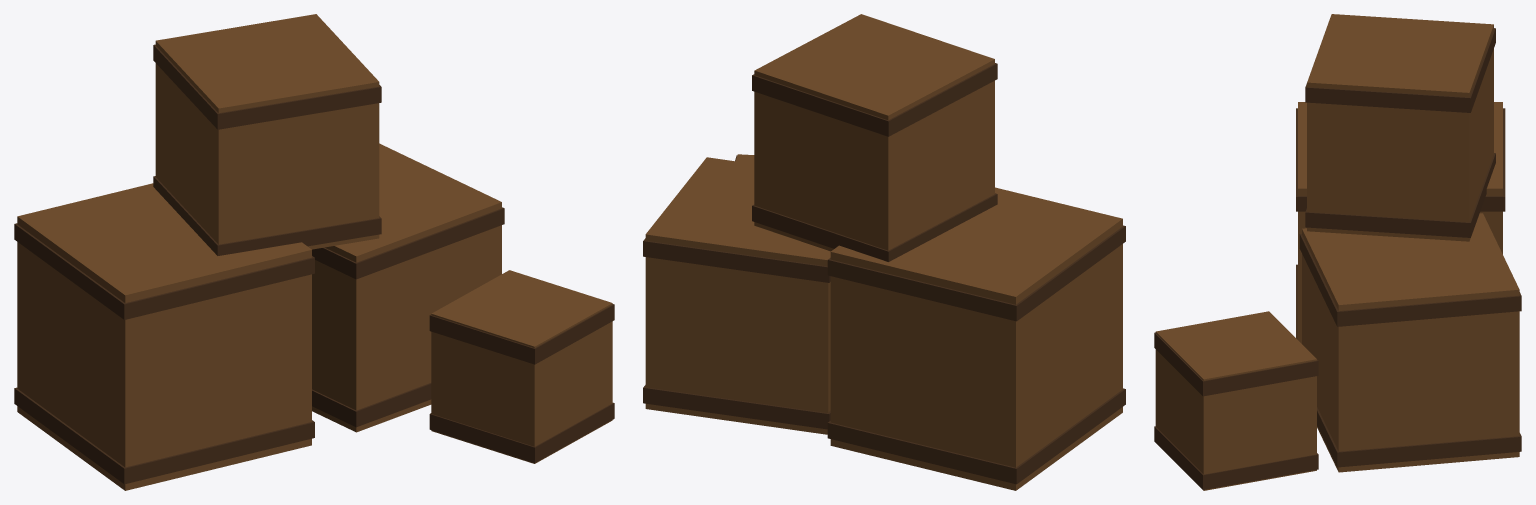
The model's file is crate_stack.glb.
3 renders of one model, left to right at view 1: azimuth 30°, elevation 25°; view 2: azimuth 150°, elevation 25°; view 3: azimuth 270°, elevation 25°, orthographic. The views are drawn at different scales.
Parts seen in each view (by area): view 1: crate_stack; view 2: crate_stack; view 3: crate_stack.
Part boxes in pixels (left/top/right/bottom): crate_stack: left=14, top=14, right=614, bottom=490; crate_stack: left=643, top=14, right=1125, bottom=490; crate_stack: left=1154, top=14, right=1521, bottom=490.
Size of the model in its own units: 2.36 by 1.75 by 1.79.
Materials: 1 (1 with a texture image).
